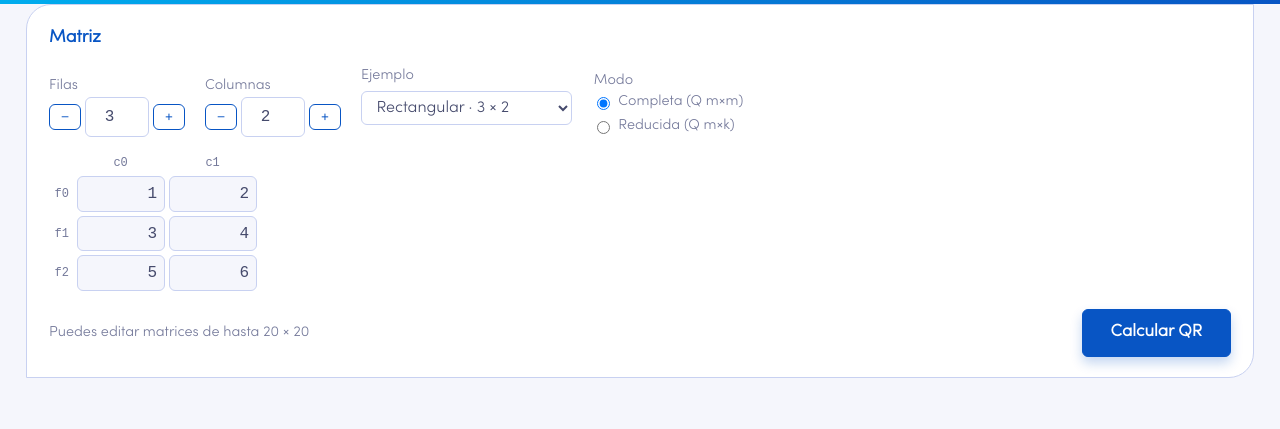
Test: MatrixEditor › blocks the submit button and lists the pointer while a cell is invalid
The width and height of the screenshot is (1280, 429).
Clear the field named "Fila 0, columna 0" at (121, 194), box [77,176,165,212]
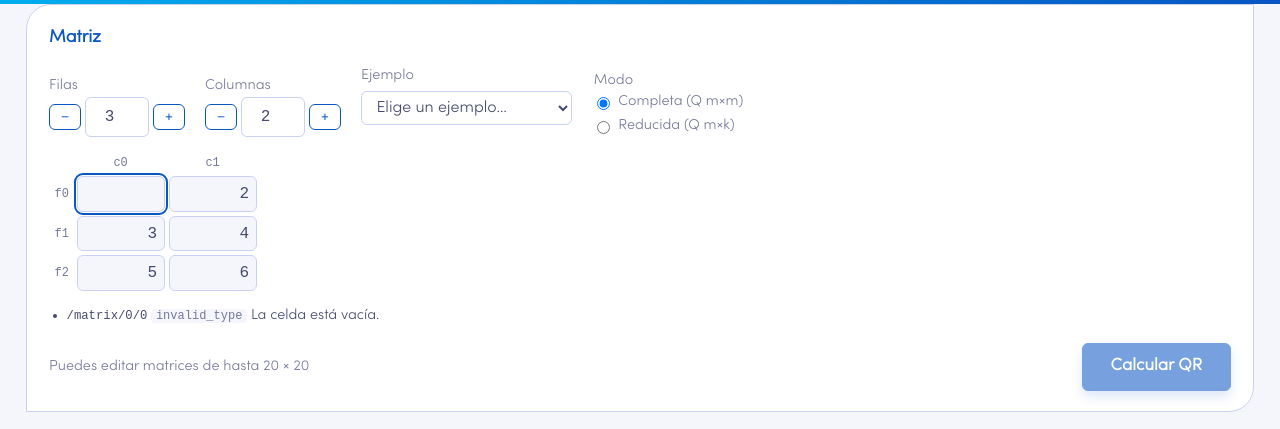
Now the button "Calcular QR" is disabled, box [1082,342,1231,390]
Now the text "/matrix/0/0" is shown, box [67,309,147,323]
